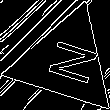N_W: (35, 35, 96, 89)
